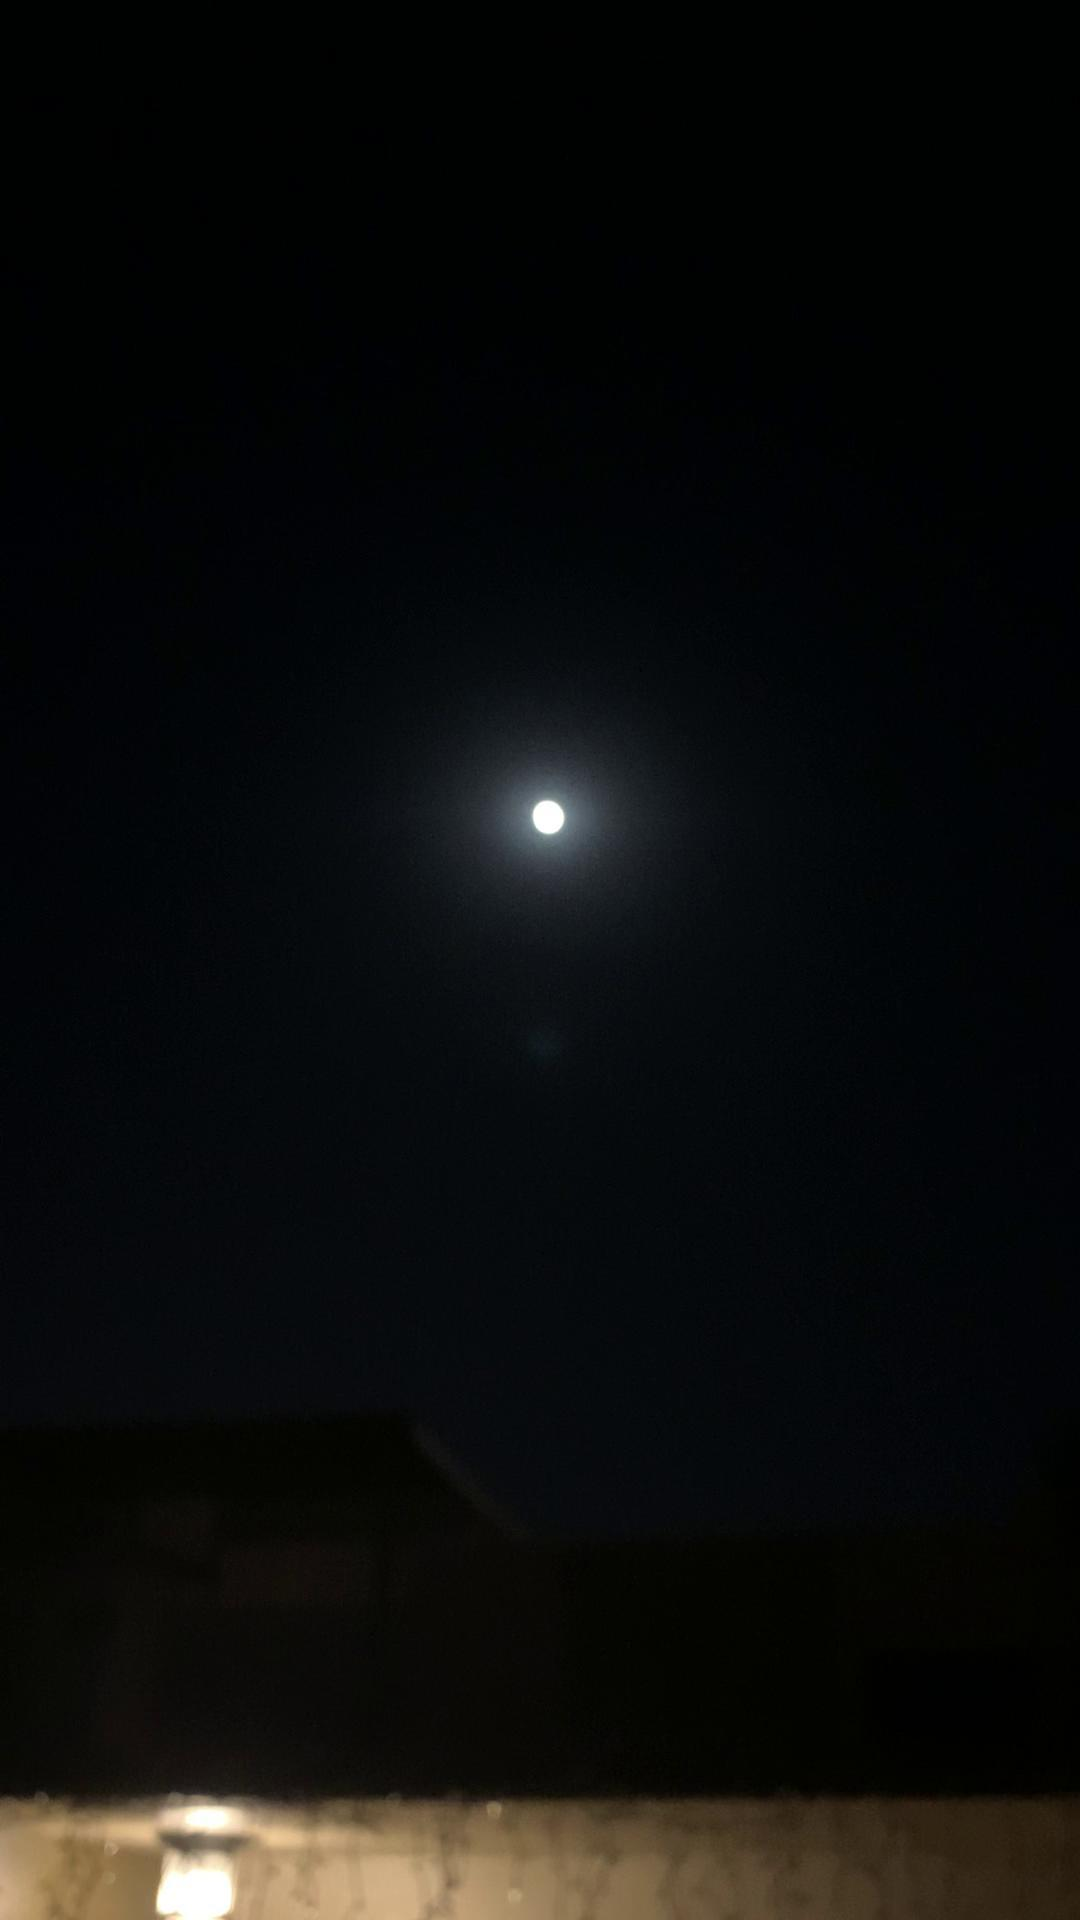moon: (509, 766, 596, 861)
